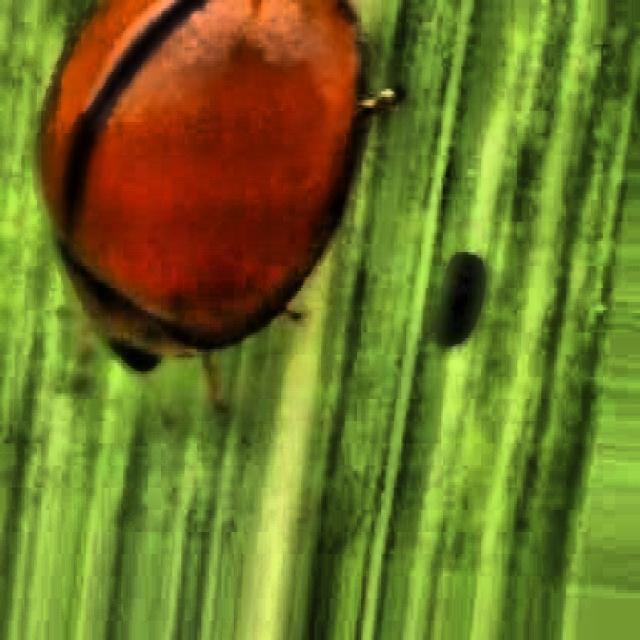Ladybug: (6, 1, 467, 494)
